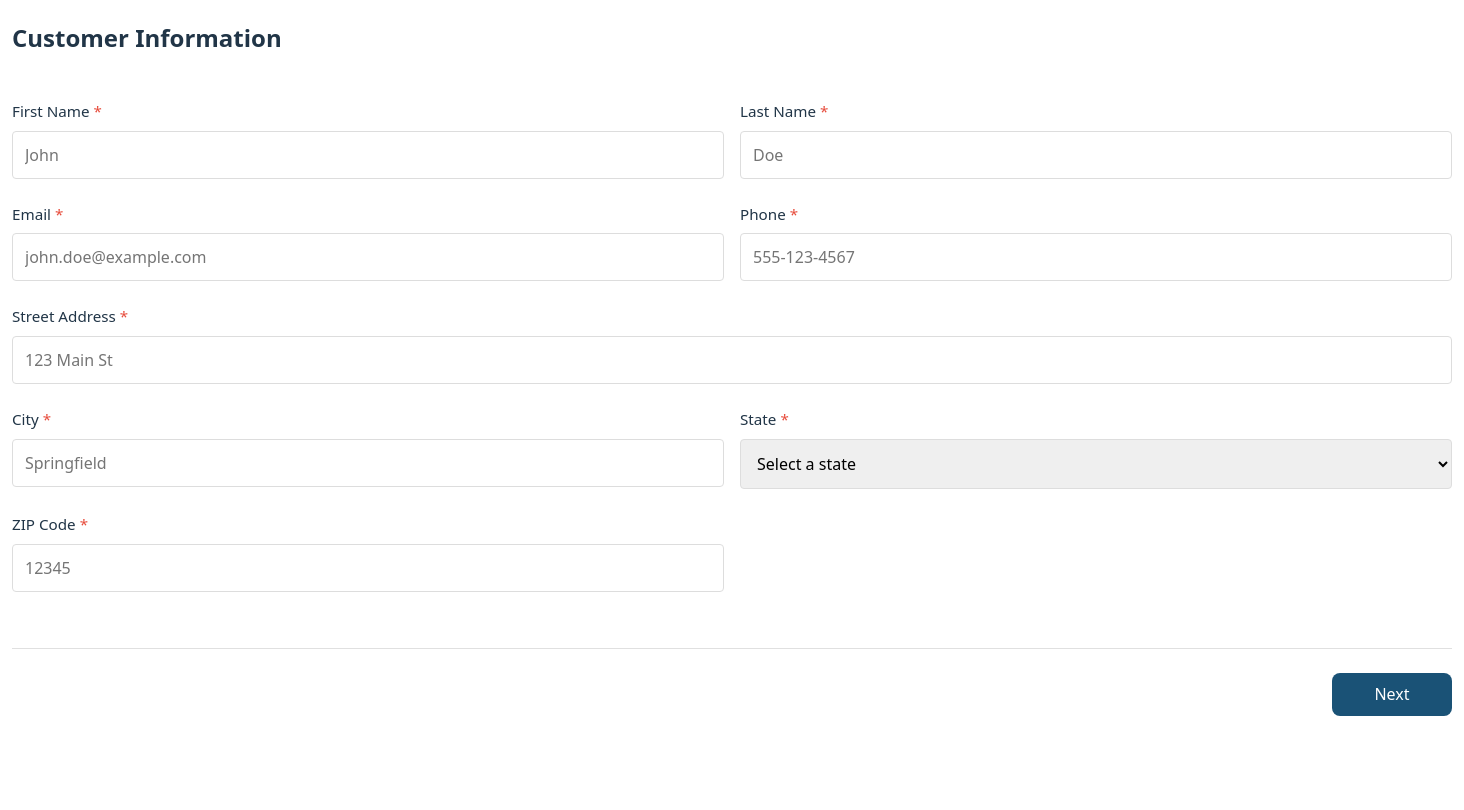
CustomerInfo › shows validation errors when submitting empty form
Click the button "Next" at (1392, 694), box [1332, 673, 1452, 716]
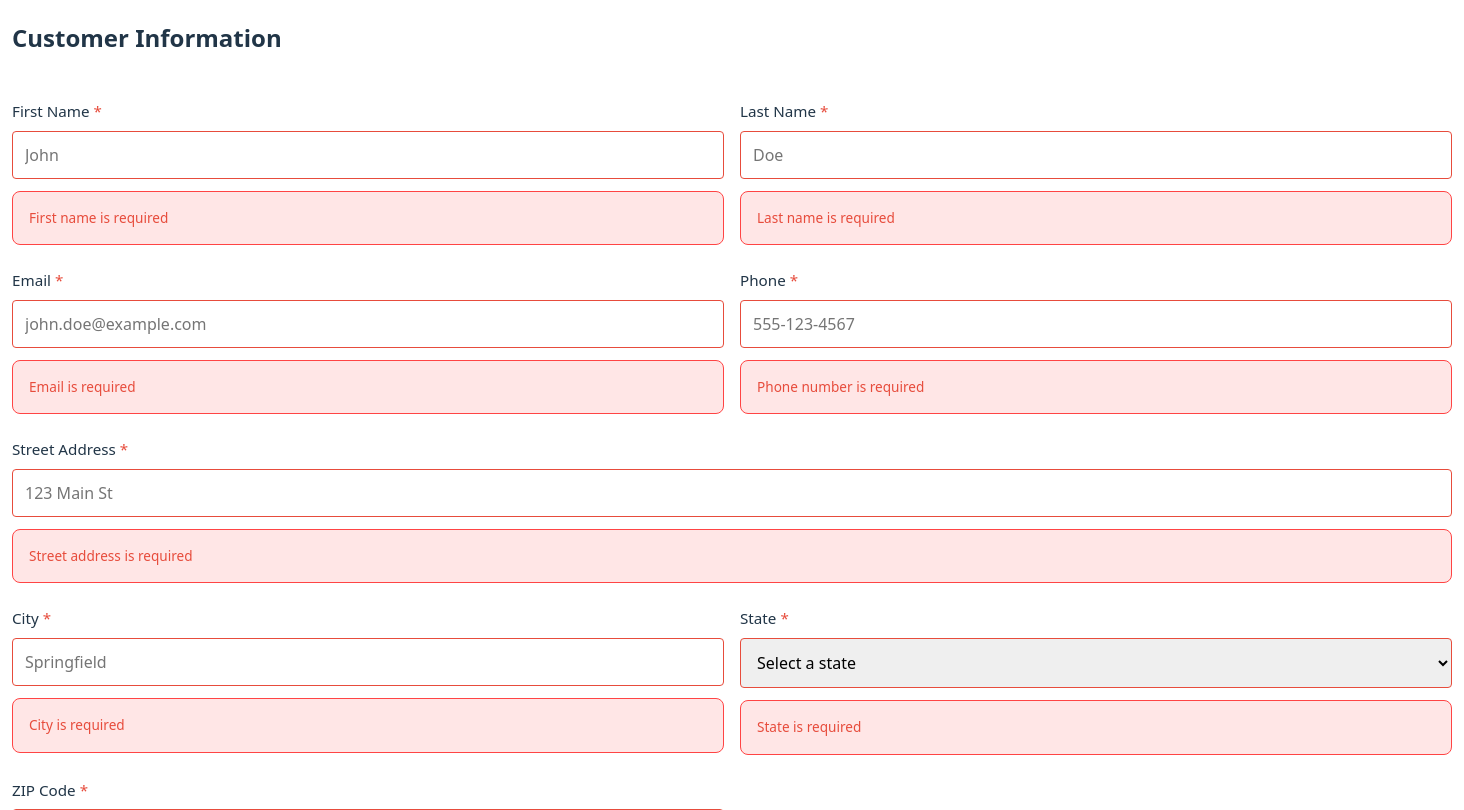
Check: the text "First name is required" is shown, box [12, 191, 724, 245]
Check: the text "Last name is required" is shown, box [740, 191, 1452, 245]
Check: the text "Email is required" is shown, box [12, 360, 724, 414]
